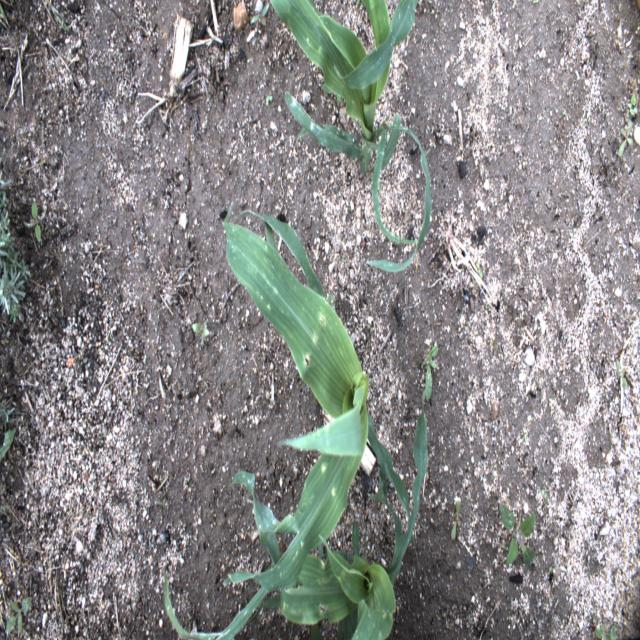crop: (163, 202, 410, 638), (253, 0, 433, 272), (263, 408, 427, 639)
weed: (0, 151, 32, 325), (498, 504, 536, 566), (7, 595, 36, 636), (23, 198, 46, 245), (421, 342, 438, 402), (0, 426, 18, 466), (0, 392, 16, 434), (617, 120, 635, 156), (50, 6, 70, 34), (593, 622, 620, 640), (451, 498, 462, 542), (615, 354, 627, 390), (191, 319, 210, 340), (626, 92, 639, 116), (0, 0, 11, 28), (475, 260, 483, 279), (546, 564, 553, 580), (464, 613, 472, 626), (540, 488, 548, 501), (264, 94, 274, 104), (493, 336, 498, 353), (484, 303, 492, 312), (61, 376, 67, 388), (532, 0, 541, 5)
